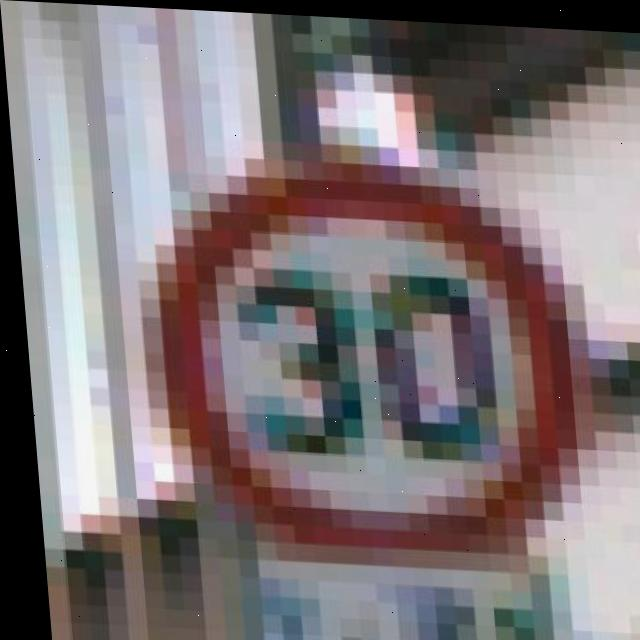Speed limit 30: (140, 151, 593, 567)
